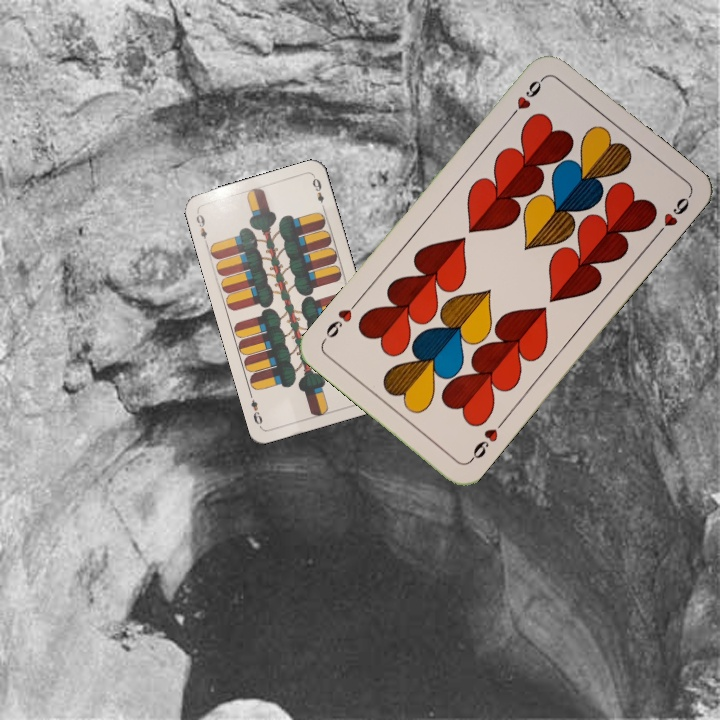E9: (192, 208, 210, 248)
H9: (465, 416, 508, 465), (505, 73, 548, 122)
